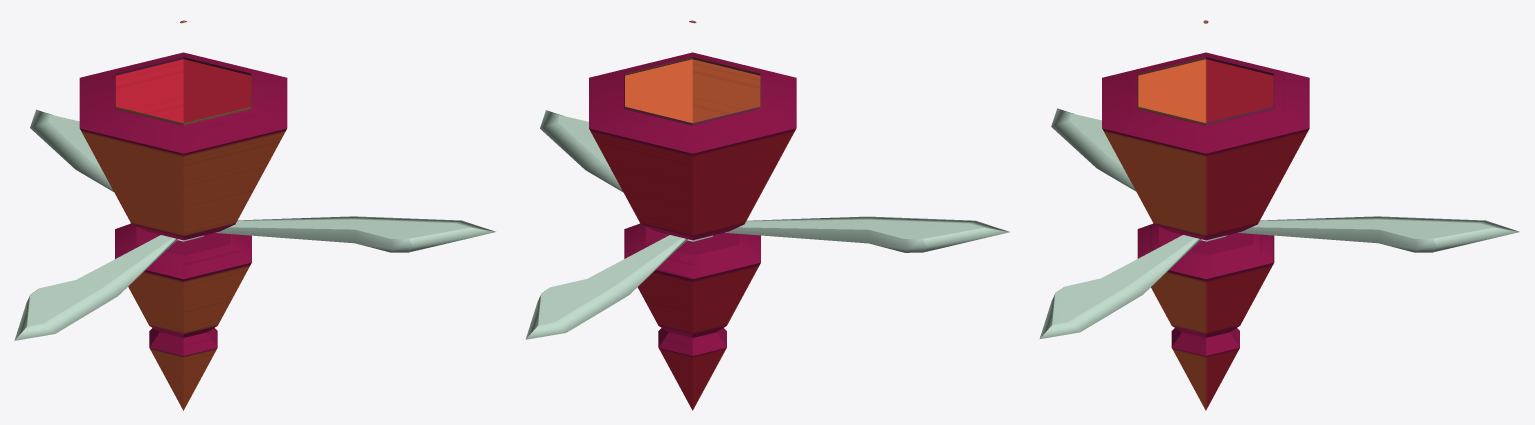
File: CarrotSlicerModel.fbx
3 views of the same model, side by side, from view 1: azimuth 30°, elevation 25°; view 2: azimuth 150°, elevation 25°; view 3: azimuth 270°, elevation 25° (orthographic).
Visible parts, largest first — view 1: Body, Blade3; view 2: Body, Blade3; view 3: Body, Blade3.
Boxes of the visible parts, bbox=[...] form: Body: bbox=[79, 20, 287, 410]; Blade3: bbox=[14, 109, 495, 340]; Body: bbox=[589, 20, 796, 410]; Blade3: bbox=[525, 110, 1009, 339]; Body: bbox=[1102, 20, 1309, 410]; Blade3: bbox=[1039, 108, 1519, 338].
Bounding box in the file's own units: 6.92 × 5.44 × 6.09.
2 materials, 1 textured.
